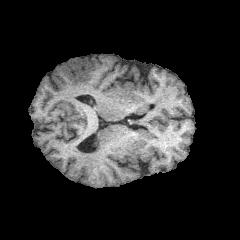glioma: (54, 57, 99, 90)
